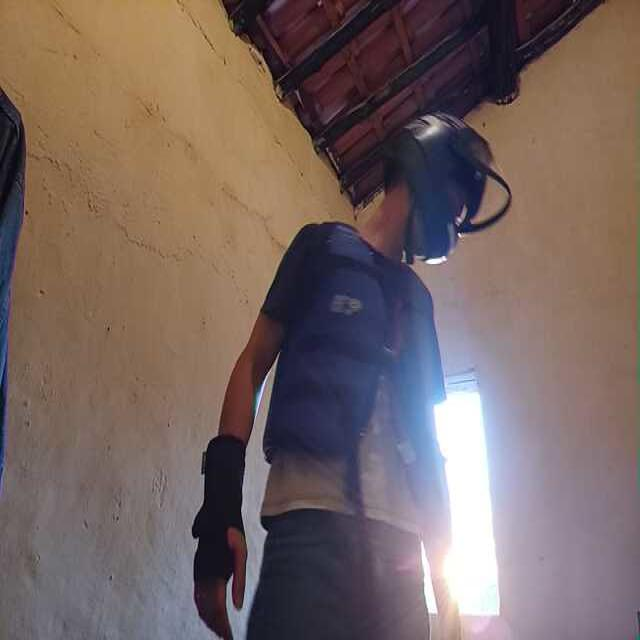capacete: (390, 117, 495, 259)
colete: (284, 237, 440, 514)
pessoa: (174, 151, 477, 640)
